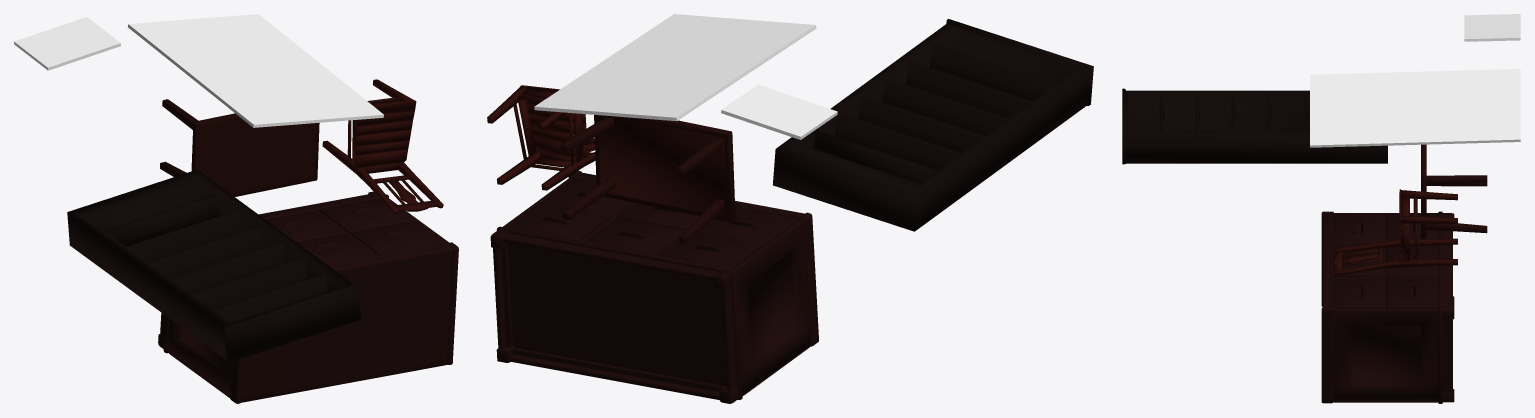
3 views of the same model, side by side, from view 1: azimuth 30°, elevation 25°; view 2: azimuth 150°, elevation 25°; view 3: azimuth 270°, elevation 25° (orthographic). The views are drawn at different scales.
Visible parts, largest first — view 1: diffuse_shelf_03, diffuse_cabinet_01, glass_door_01, diffuse_table_02, diffuse_chair_04, glass_partition_02; view 2: diffuse_cabinet_01, diffuse_shelf_03, glass_door_01, diffuse_table_02, diffuse_chair_04, glass_partition_02; view 3: diffuse_cabinet_01, glass_door_01, diffuse_shelf_03, diffuse_chair_04, diffuse_table_02, glass_partition_02.
Part boxes in pixels (x1=…): diffuse_shelf_03: x1=67, y1=170, x2=361, y2=362; diffuse_cabinet_01: x1=158, y1=191, x2=458, y2=403; glass_door_01: x1=128, y1=14, x2=383, y2=127; diffuse_table_02: x1=160, y1=99, x2=319, y2=196; diffuse_chair_04: x1=322, y1=79, x2=443, y2=213; glass_partition_02: x1=14, y1=17, x2=120, y2=70; diffuse_cabinet_01: x1=490, y1=170, x2=818, y2=403; diffuse_shelf_03: x1=773, y1=19, x2=1093, y2=231; glass_door_01: x1=534, y1=14, x2=816, y2=121; diffuse_table_02: x1=560, y1=115, x2=735, y2=243; diffuse_chair_04: x1=487, y1=85, x2=595, y2=190; glass_partition_02: x1=721, y1=84, x2=837, y2=139; diffuse_cabinet_01: x1=1321, y1=211, x2=1454, y2=403; glass_door_01: x1=1310, y1=69, x2=1520, y2=147; diffuse_shelf_03: x1=1122, y1=88, x2=1387, y2=164; diffuse_chair_04: x1=1332, y1=189, x2=1457, y2=275; diffuse_table_02: x1=1421, y1=144, x2=1487, y2=238; glass_partition_02: x1=1464, y1=14, x2=1520, y2=41.
Bounding box in the file's own units: 244 × 209 × 284.
